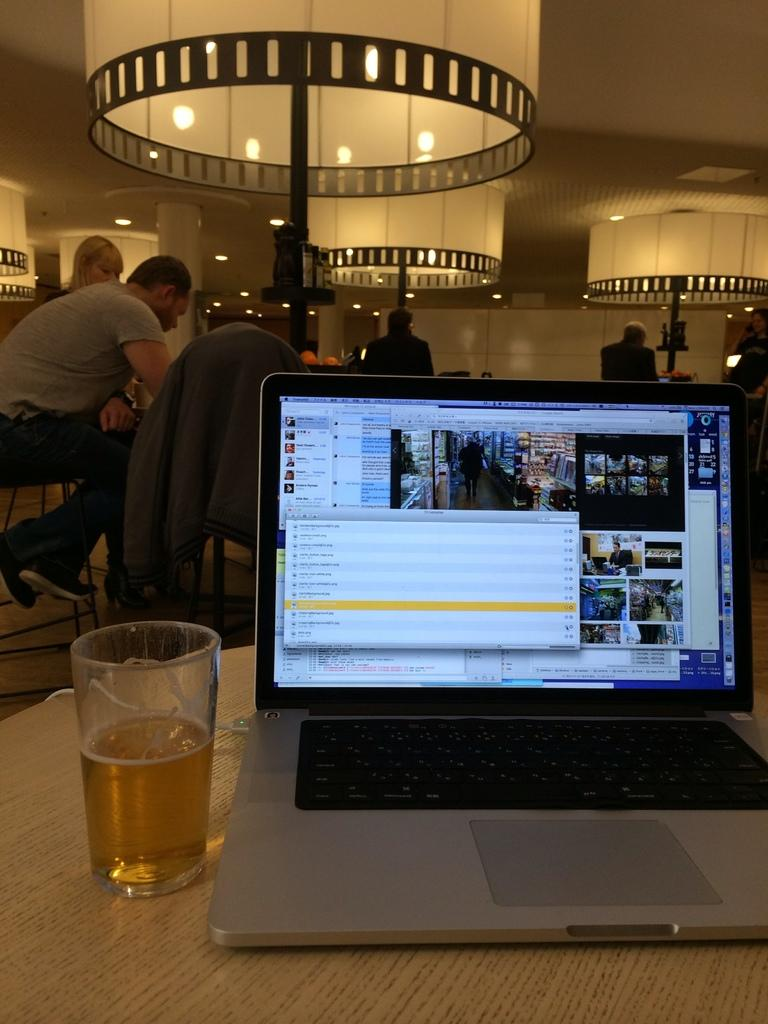Laptop: (208, 367, 767, 953)
